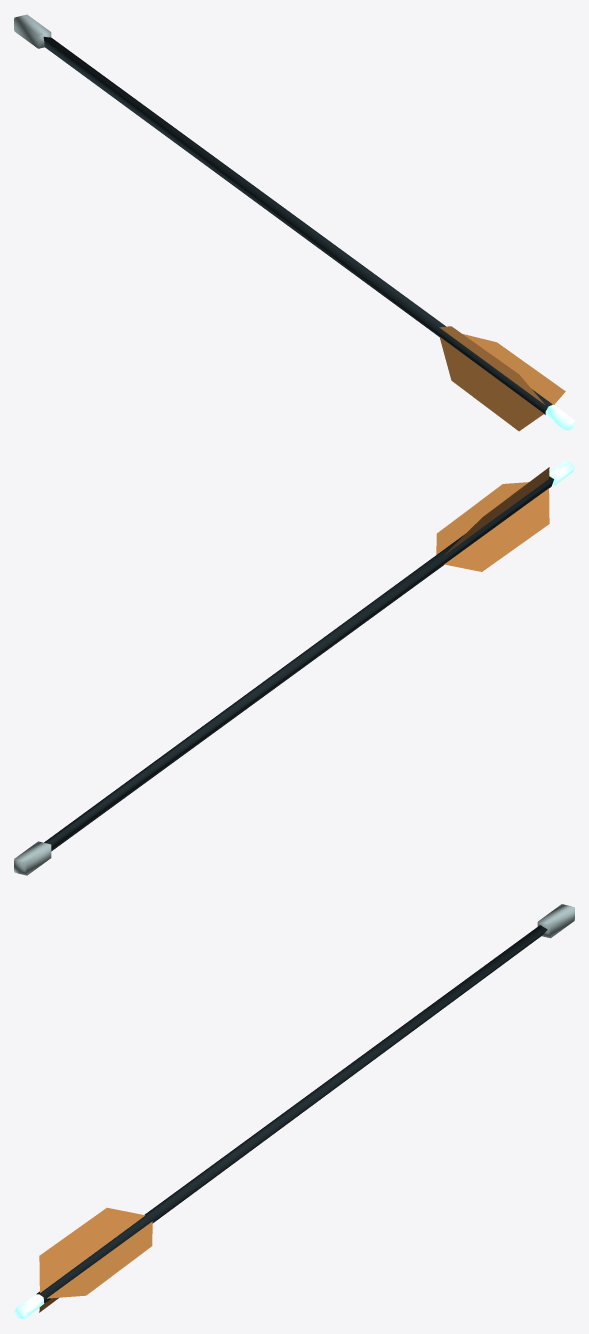
File: club-arrow.low.glb
3 views of the same model, one above another, from view 1: azimuth 30°, elevation 25°; view 2: azimuth 150°, elevation 25°; view 3: azimuth 330°, elevation 25° (orthographic).
Parts seen in each view (by area): view 1: geometry:body:0, geometry:body:3, geometry:body:1; view 2: geometry:body:0, geometry:body:3, geometry:body:1; view 3: geometry:body:0, geometry:body:3, geometry:body:1.
Part boxes in pixels (<box>): geometry:body:0: <box>43,37,552,414</box>; geometry:body:3: <box>439,326,565,431</box>; geometry:body:1: <box>14,14,51,48</box>; geometry:body:0: <box>44,476,553,851</box>; geometry:body:3: <box>436,467,549,571</box>; geometry:body:1: <box>14,841,51,875</box>; geometry:body:0: <box>36,925,547,1302</box>; geometry:body:3: <box>39,1207,152,1312</box>; geometry:body:1: <box>537,904,574,938</box>.
Size of the model in its own units: 0.036 by 0.042 by 0.732.
